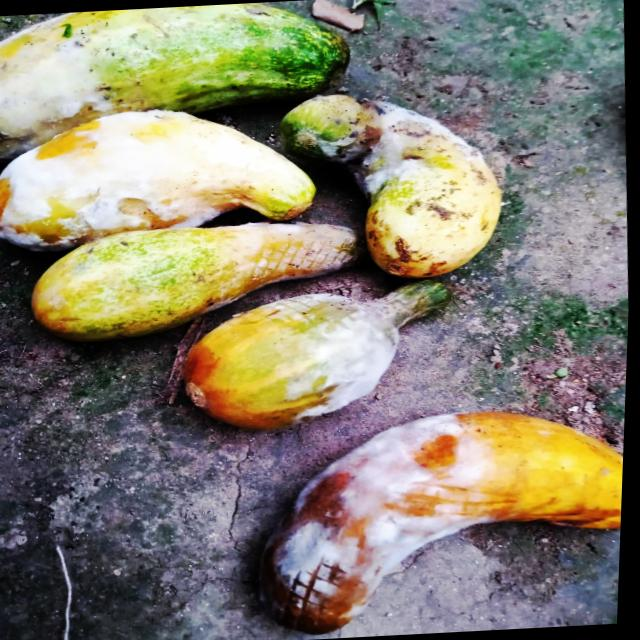Pythium-Fruit-Rot: (248, 404, 503, 630), (0, 104, 240, 257), (297, 90, 499, 206), (263, 276, 415, 422), (0, 10, 136, 157), (224, 205, 370, 294)
